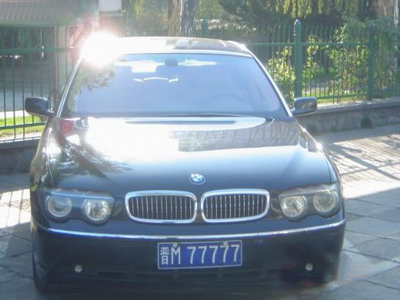plate_number: (157, 241, 242, 267)
